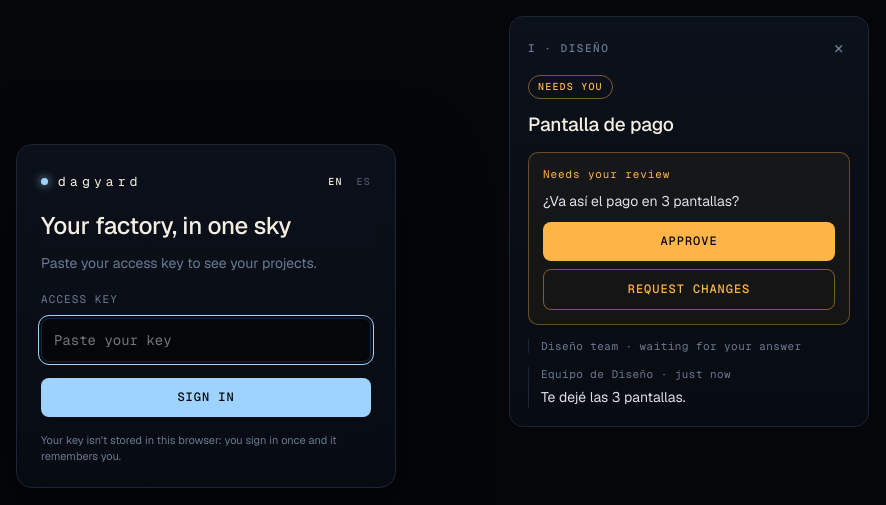
idioma de la interfaz › el selector cambia de idioma sin recargar, se recuerda y la ficha lo sigue
Click the button "ES" at (364,182), box top-left (351, 171), bottom-right (377, 192)
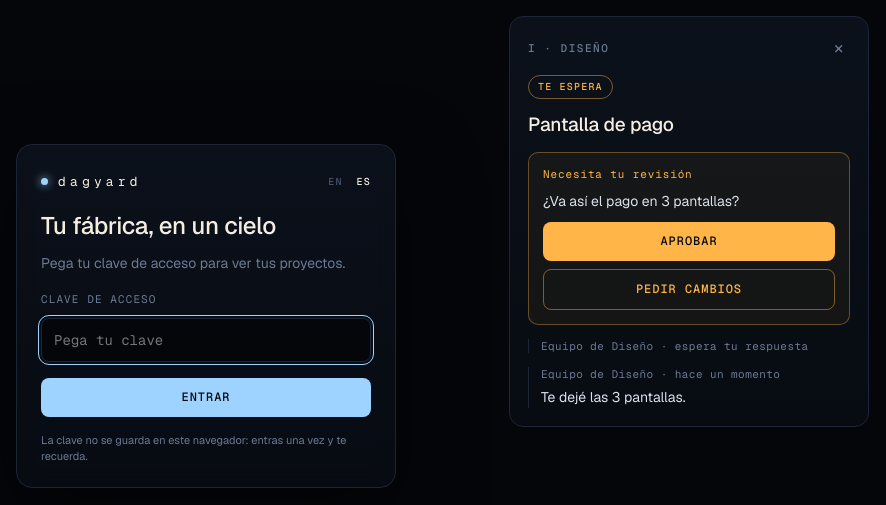
Now the heading "Tu fábrica, en un cielo" is shown, box top-left (41, 210), bottom-right (276, 241)
Now the text with class "chip" reads "Te espera", box top-left (538, 80), bottom-right (603, 93)
